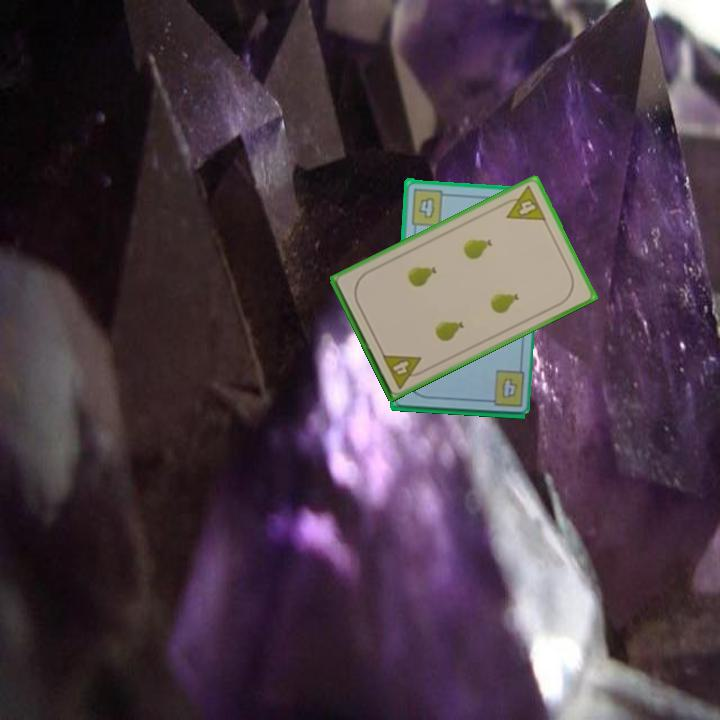4b: (480, 367, 527, 410), (408, 185, 452, 228)
4p: (497, 182, 549, 224), (378, 350, 429, 391)
